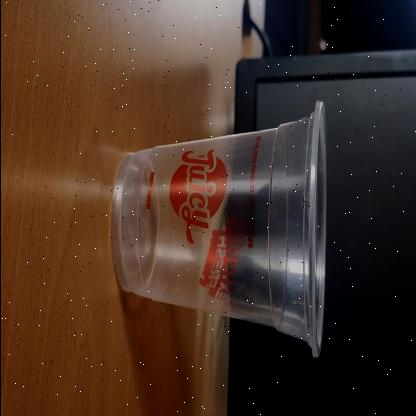Others: (110, 98, 328, 361)
